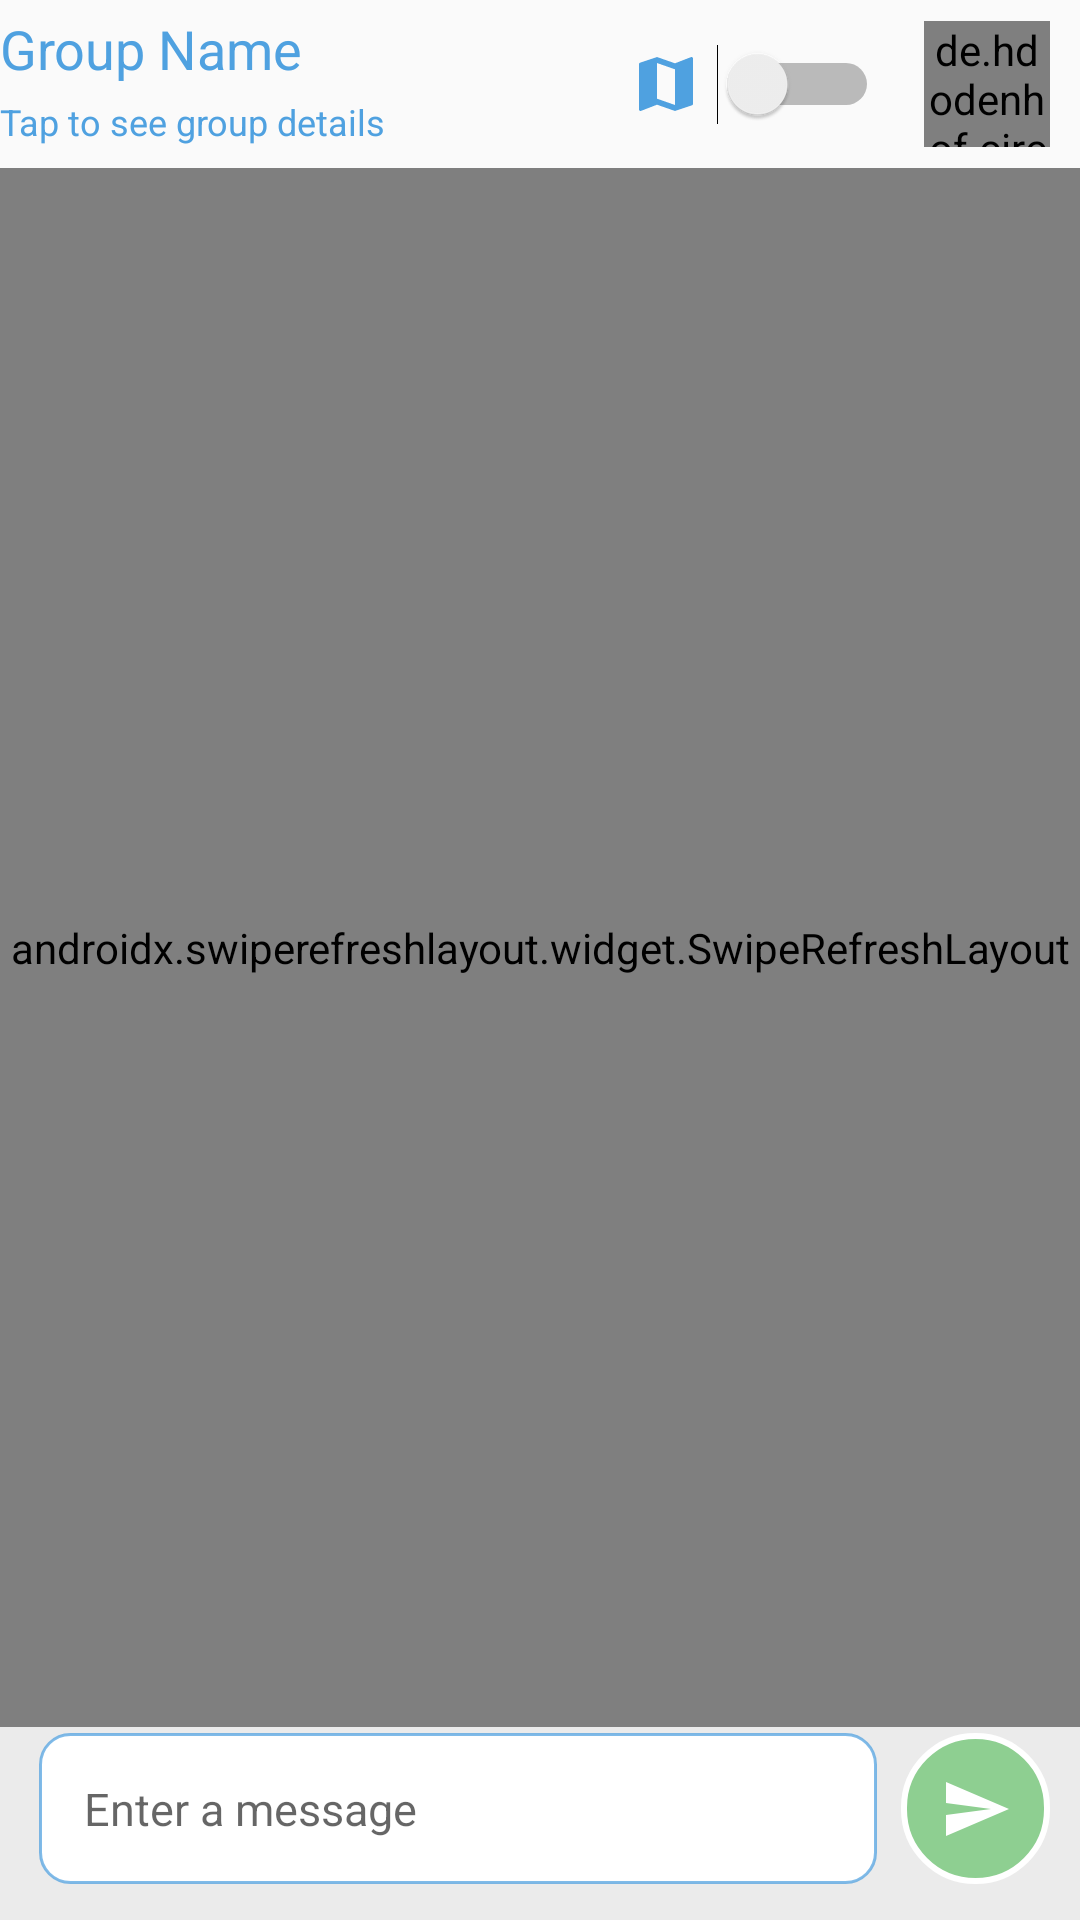

Icon bounding boxes for this 1080×1920 phone screenshot, format (x1, y1, x2, y2):
send: (907, 1739, 1044, 1878)
